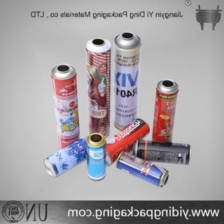aerosol_cans: (111, 29, 143, 132), (48, 62, 83, 153), (94, 114, 151, 168), (83, 35, 112, 140), (40, 131, 97, 180), (149, 75, 182, 151), (114, 147, 170, 189), (128, 137, 195, 167), (83, 130, 109, 183)
